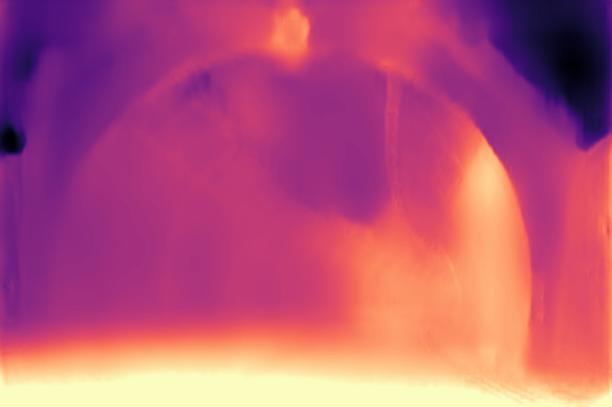Real_Tunnel: (22, 36, 552, 381)
